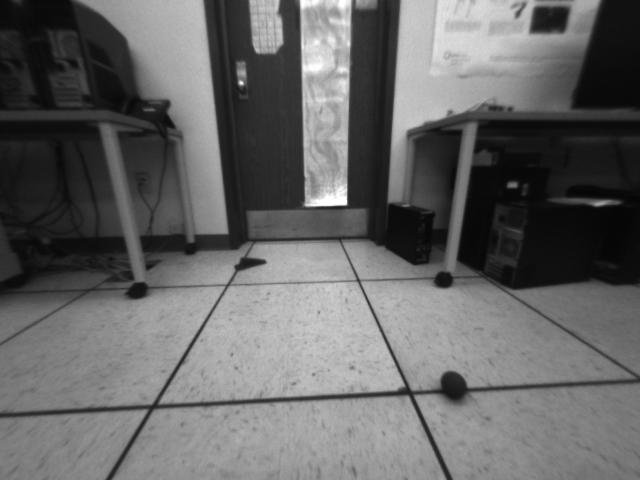dogtoy: (433, 363, 476, 404)
